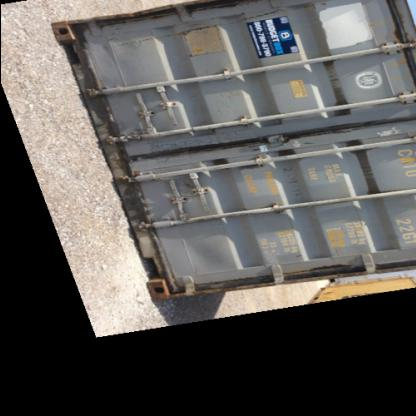Damage: (113, 119, 256, 173), (170, 16, 232, 62), (146, 276, 246, 302), (280, 256, 364, 278), (278, 160, 308, 204), (325, 57, 353, 103)
